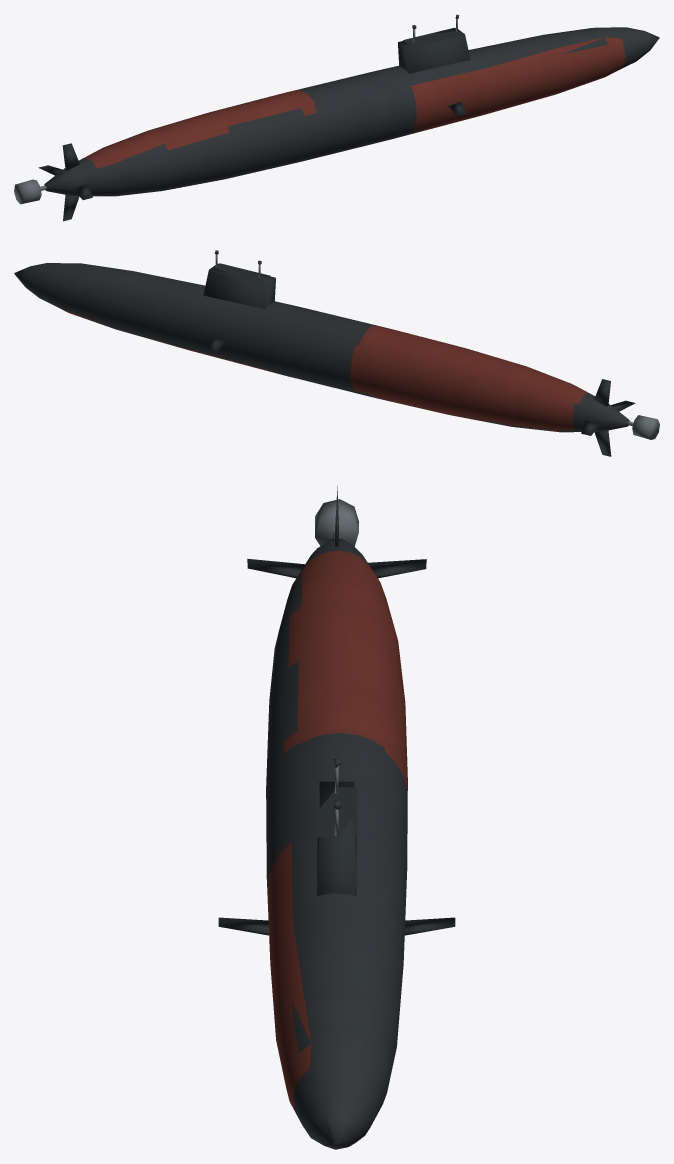
Rendered from CN_SSN_Type093B_LOD3.fbx.
3 renders of one model, top to bottom at view 1: azimuth 30°, elevation 25°; view 2: azimuth 150°, elevation 25°; view 3: azimuth 270°, elevation 25°, orthographic. The views are drawn at different scales.
Parts seen in each view (by area): view 1: CN_SSN_Type093B_LOD3; view 2: CN_SSN_Type093B_LOD3; view 3: CN_SSN_Type093B_LOD3.
Boxes of the visible parts, x1,y1,x2,y2 form: CN_SSN_Type093B_LOD3: (14,14,659,221); CN_SSN_Type093B_LOD3: (14,250,659,456); CN_SSN_Type093B_LOD3: (218,486,455,1149).
Size of the model in its own units: 115 by 18.33 by 18.81.
6 materials, 1 textured.
